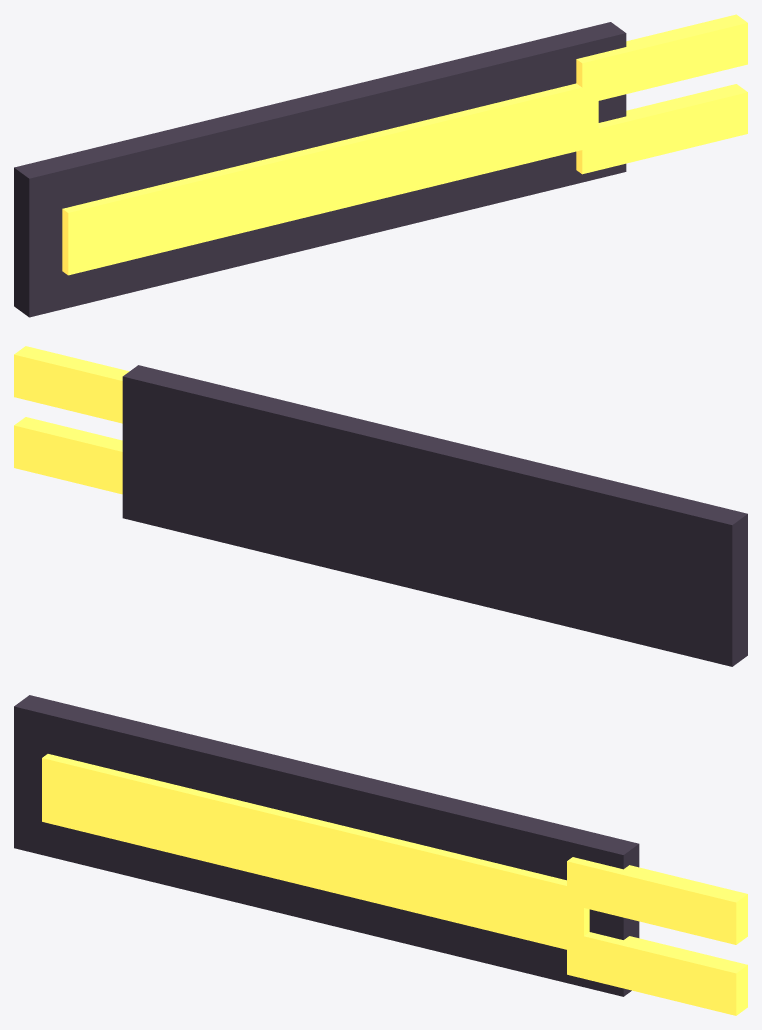
The model's file is SIGN_Arrow_Neon.glb.
3 renders of one model, top to bottom at view 1: azimuth 30°, elevation 25°; view 2: azimuth 150°, elevation 25°; view 3: azimuth 330°, elevation 25°, orthographic. The views are drawn at different scales.
Parts seen in each view (by area): view 1: SIGN_Arrow_Neon; view 2: SIGN_Arrow_Neon; view 3: SIGN_Arrow_Neon.
Part boxes in pixels (x1,y1,x2,y2): SIGN_Arrow_Neon: [14, 14, 747, 317]; SIGN_Arrow_Neon: [14, 346, 747, 666]; SIGN_Arrow_Neon: [14, 695, 747, 1015].
Bounding box in the file's own units: 2.15 × 0.4 × 0.11.
